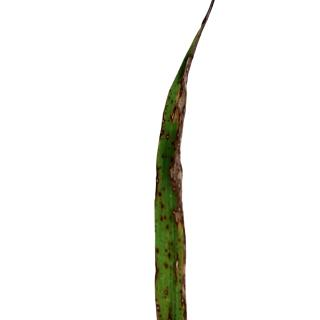Blast: (172, 172, 180, 227), (179, 279, 187, 314), (162, 115, 171, 142), (177, 85, 184, 116), (174, 253, 180, 282), (172, 106, 176, 128), (163, 289, 170, 296)
